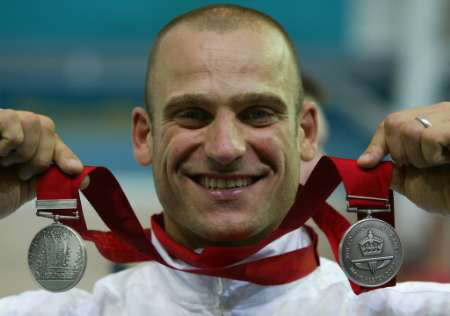Face: (145, 36, 304, 245)
